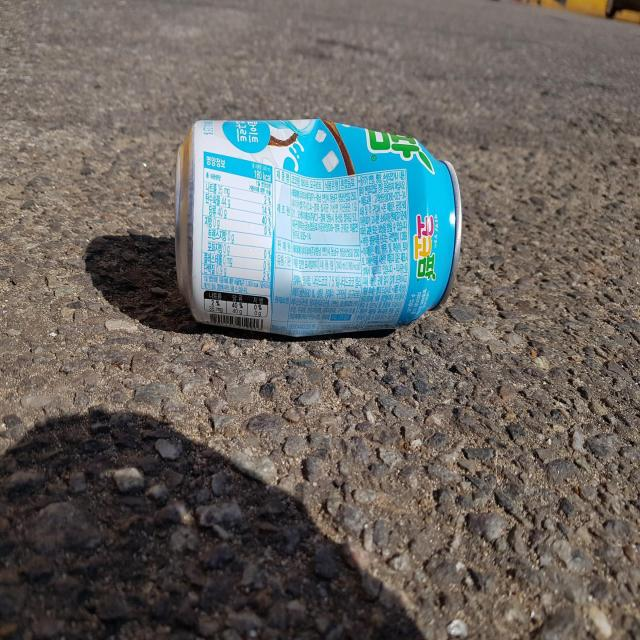can: (175, 118, 462, 337)
